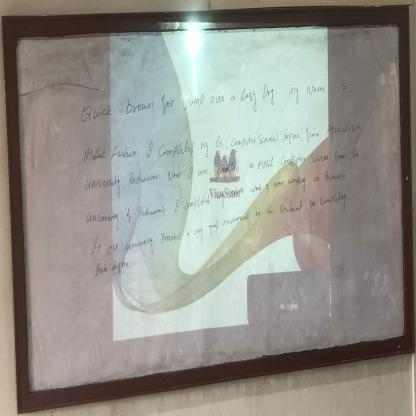Handwritten text: (83, 160, 355, 235), (87, 186, 360, 260), (74, 66, 354, 135), (78, 112, 367, 170), (82, 143, 364, 193)
Whiteboard: (11, 21, 410, 406)
